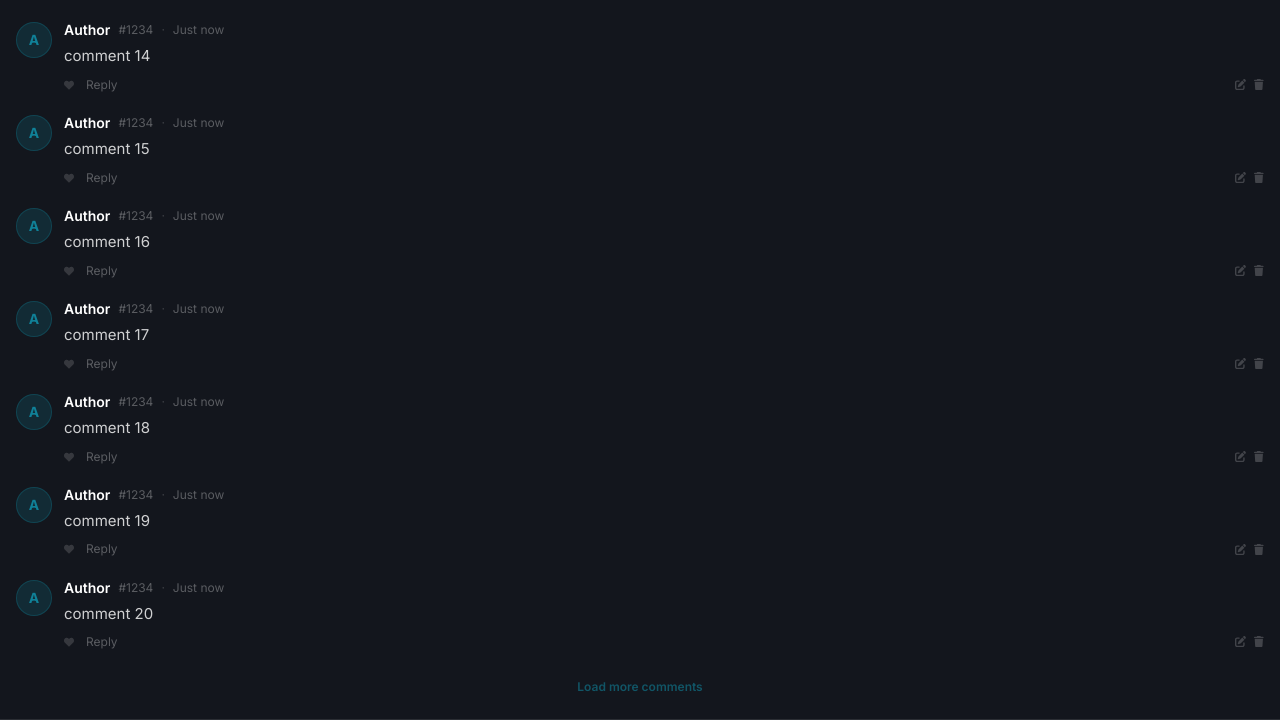
CommentsSection — pagination › shows Load more only when a full page was returned, and appends on click
The image size is (1280, 720).
(page scrolled)
Click the button "Load more comments": {"x": 640, "y": 686} [16,670,1264,702]
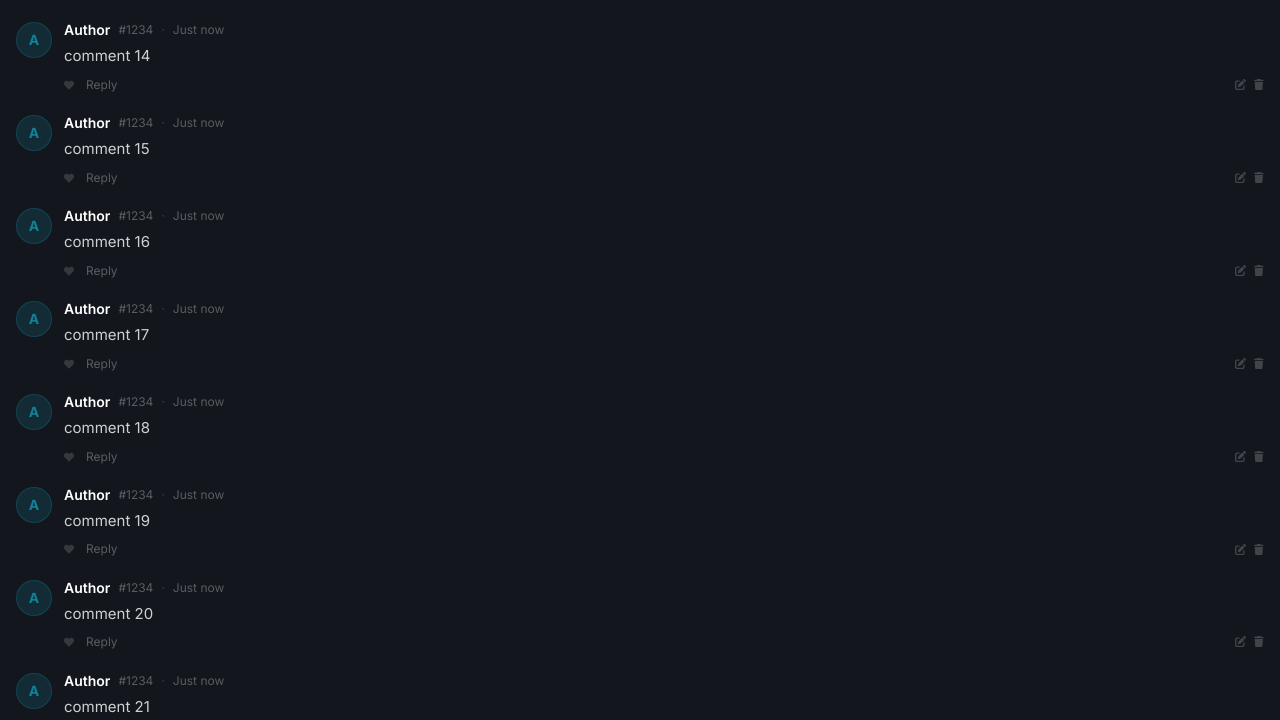
Check: the text "comment 21" is shown, box [64,696,150,716]
Check: the button "Load more comments" is gone
